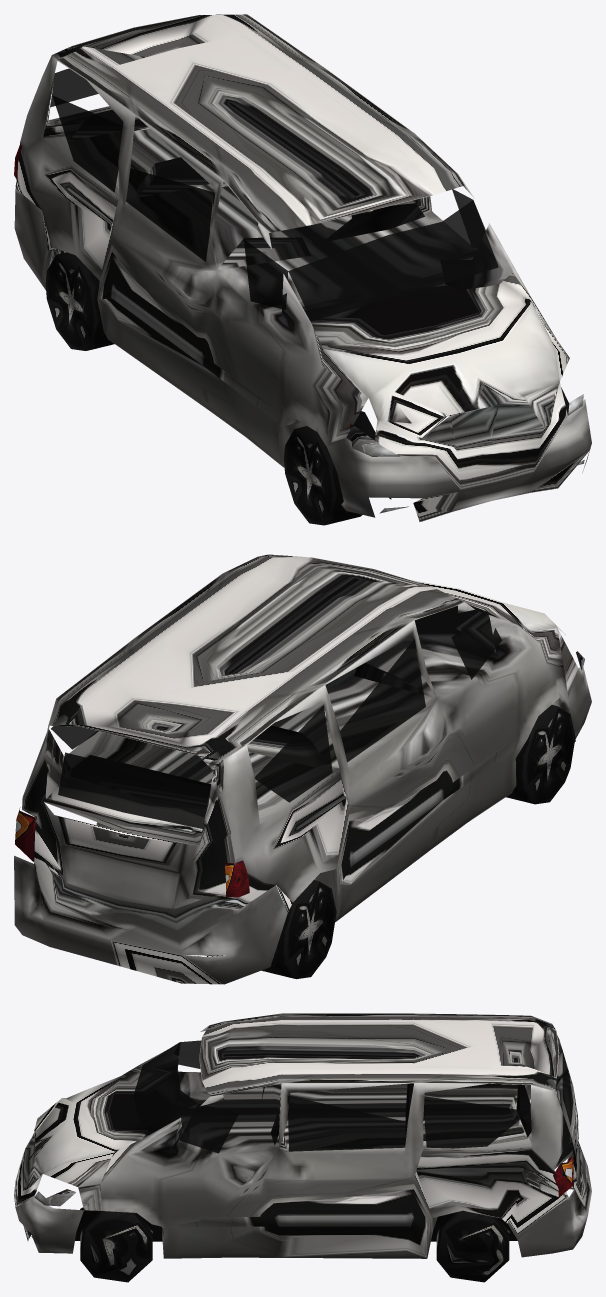
File: delivery_far.glb
3 renders of one model, top to bottom at view 1: azimuth 30°, elevation 25°; view 2: azimuth 150°, elevation 25°; view 3: azimuth 270°, elevation 25°, orthographic. The views are drawn at different scales.
Parts seen in each view (by area): view 1: body, wheel_fr, wheel_rr; view 2: body, wheel_rr, wheel_fr; view 3: body, wheel_fl, wheel_rl.
Part boxes in pixels (box(x1,y1,x2,y2)): body: box(14, 14, 591, 521); wheel_fr: box(284, 426, 362, 525); wheel_rr: box(45, 252, 114, 350); body: box(14, 554, 591, 984); wheel_rr: box(261, 880, 336, 979); wheel_fr: box(506, 705, 575, 804); body: box(14, 1013, 591, 1258); wheel_fl: box(80, 1210, 152, 1282); wheel_rl: box(436, 1210, 509, 1282).
Bounding box in the file's own units: 1.8 × 1.84 × 4.89.
Materials: 4 (3 with a texture image).
